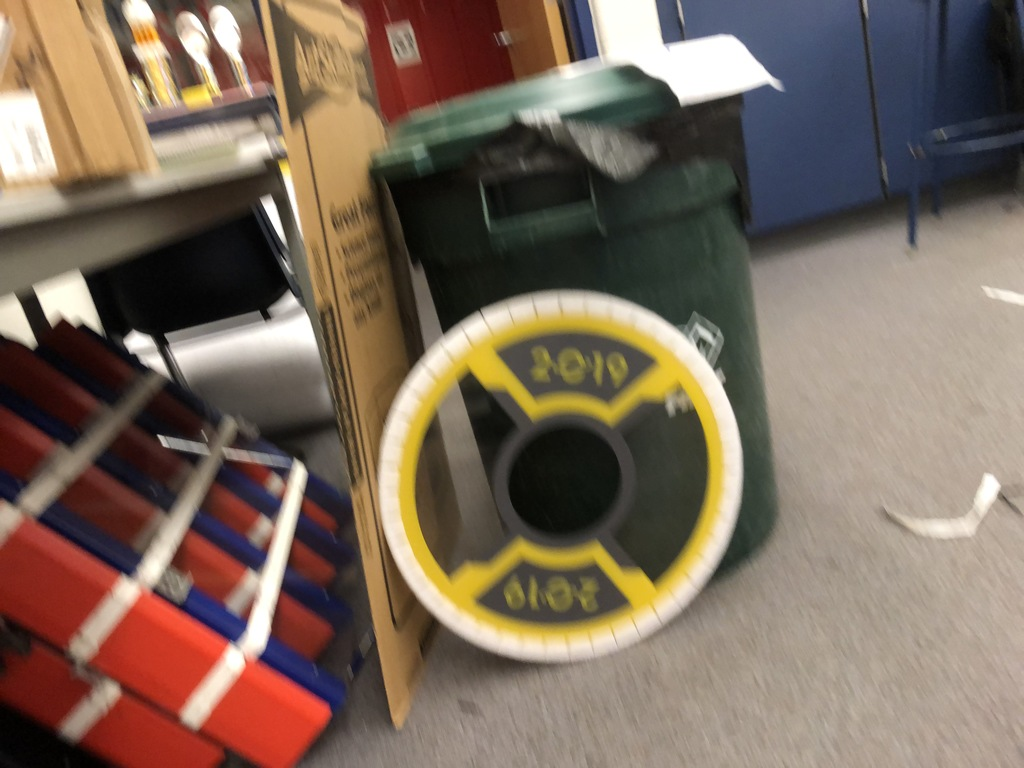hatch_panel: (367, 287, 777, 673)
